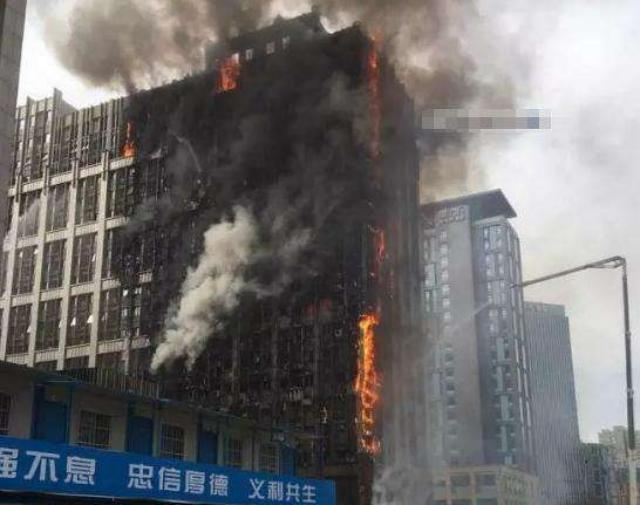fire: (352, 298, 386, 465), (363, 35, 389, 163), (368, 221, 388, 272), (118, 115, 142, 156), (218, 53, 238, 94)
